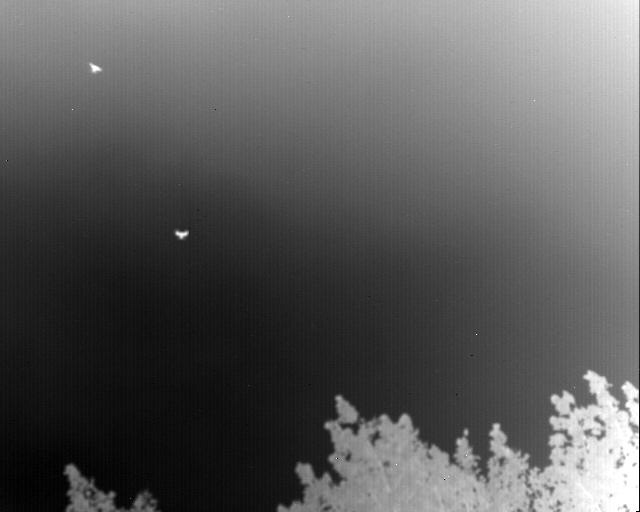plane: (89, 61, 103, 72), (175, 228, 189, 238)
